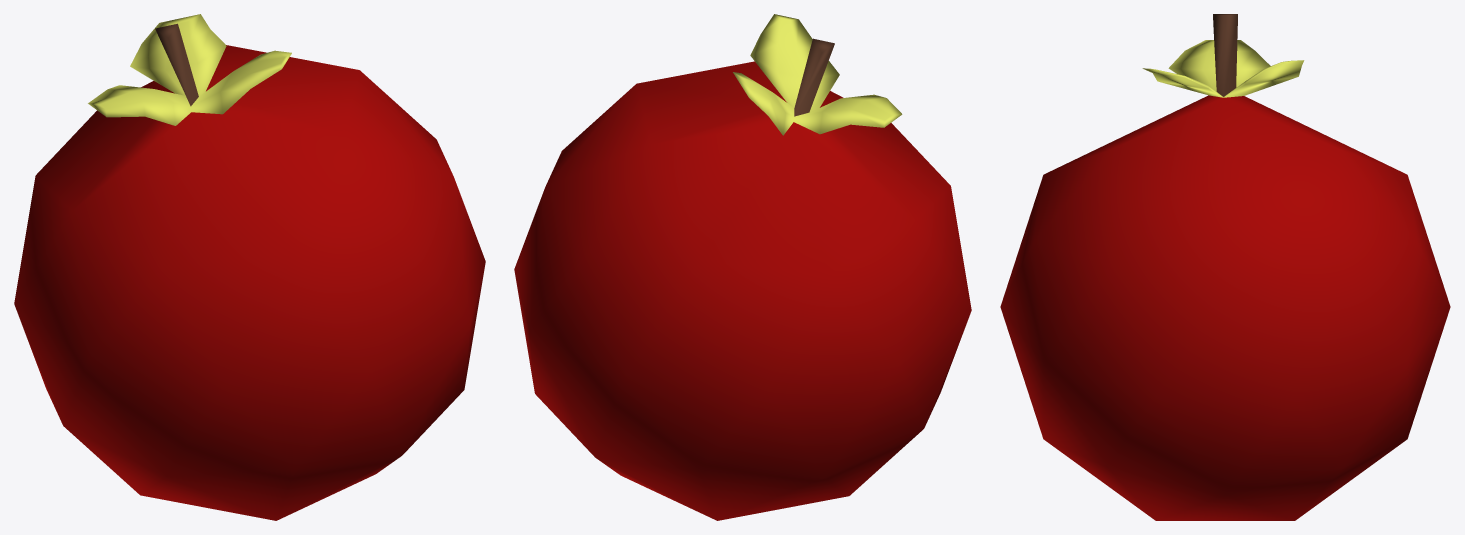
Rendered from Snack.fbx.
3 renders of one model, left to right at view 1: azimuth 30°, elevation 25°; view 2: azimuth 150°, elevation 25°; view 3: azimuth 270°, elevation 25°, orthographic. The views are drawn at different scales.
Visible parts, largest first — view 1: Snack; view 2: Snack; view 3: Snack.
Part boxes in pixels (box(x1,y1,x2,y2)): Snack: box(14, 14, 485, 520); Snack: box(514, 14, 971, 520); Snack: box(1000, 14, 1450, 520).
Size of the model in its own units: 190 by 227 by 200.
